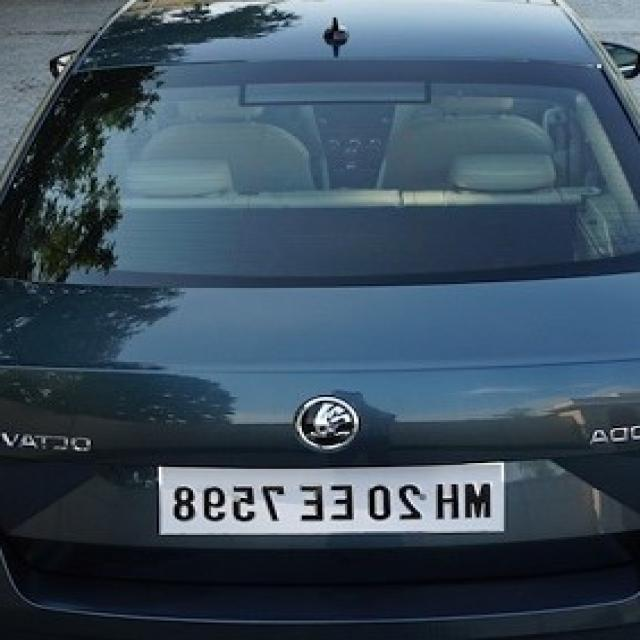number-plate: (172, 464, 498, 533)
